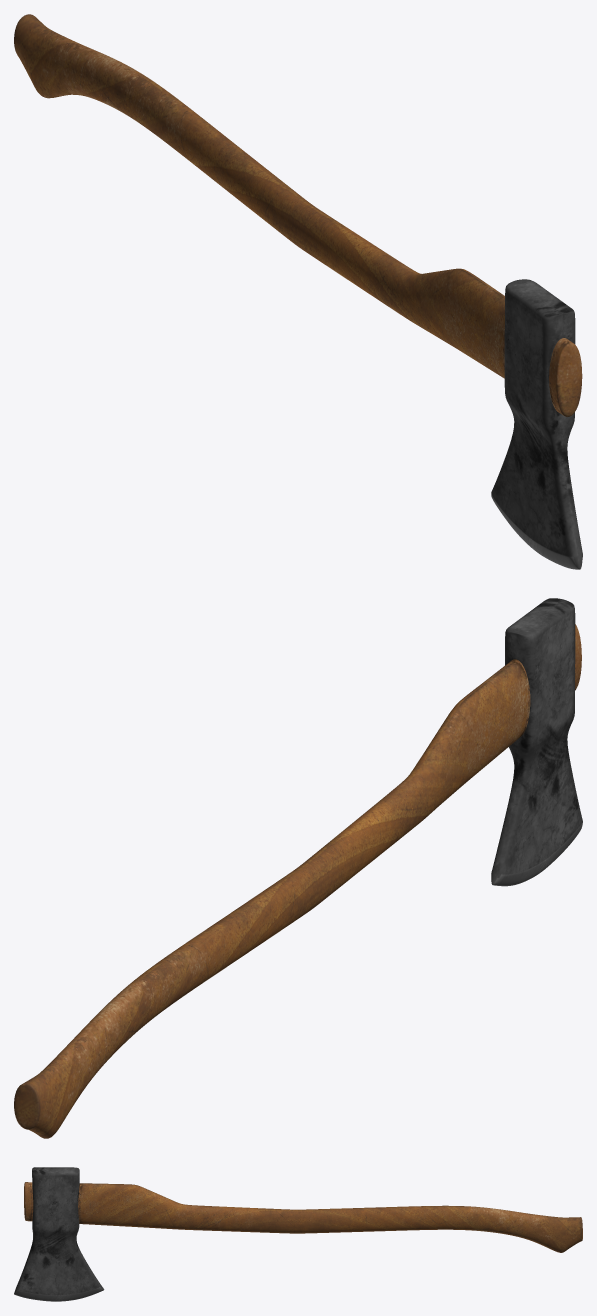
Rendered from Modern_wooden_axe.obj.
3 views of the same model, one above another, from view 1: azimuth 30°, elevation 25°; view 2: azimuth 150°, elevation 25°; view 3: azimuth 270°, elevation 25° (orthographic). The views are drawn at different scales.
Visible parts, largest first — view 1: axe_wooden_handle, axe_metal_head; view 2: axe_wooden_handle, axe_metal_head; view 3: axe_wooden_handle, axe_metal_head.
Boxes of the visible parts, <box> form: axe_wooden_handle: <box>14,14,582,416</box>; axe_metal_head: <box>491,279,582,569</box>; axe_wooden_handle: <box>14,624,581,1138</box>; axe_metal_head: <box>491,598,582,886</box>; axe_wooden_handle: <box>24,1182,582,1252</box>; axe_metal_head: <box>14,1167,104,1301</box>.
Size of the model in its own units: 0.6385 by 5.07 by 19.87.
2 materials, 2 textured.
